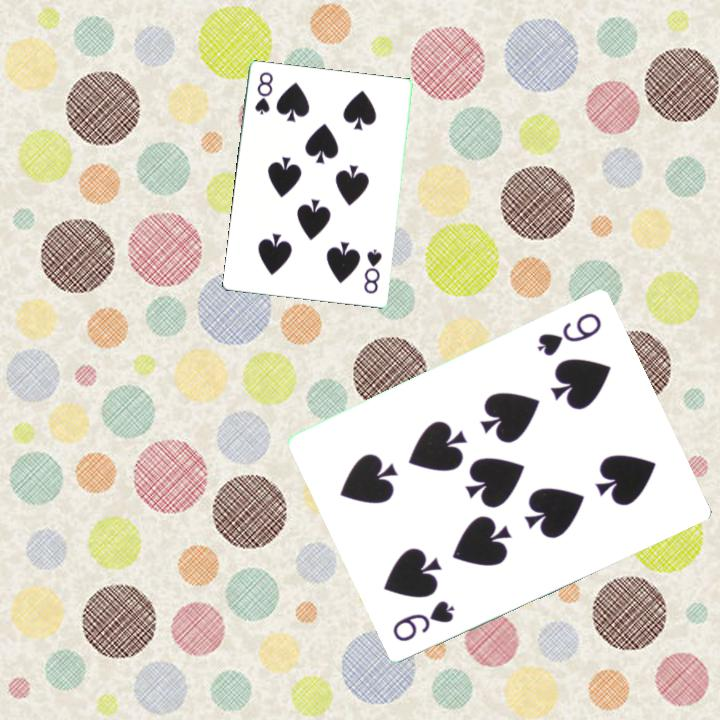8s: (360, 246, 385, 297), (251, 69, 276, 118)
9s: (534, 308, 605, 359), (389, 596, 458, 644)
